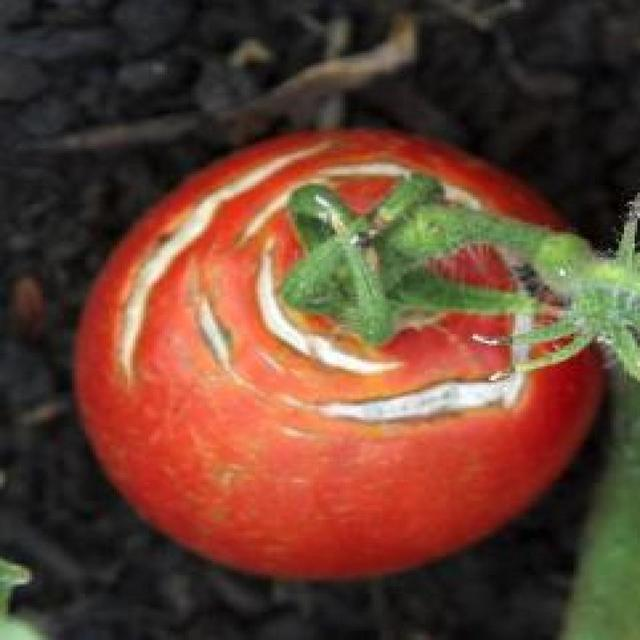Cracking Fruit: (69, 90, 360, 289)
